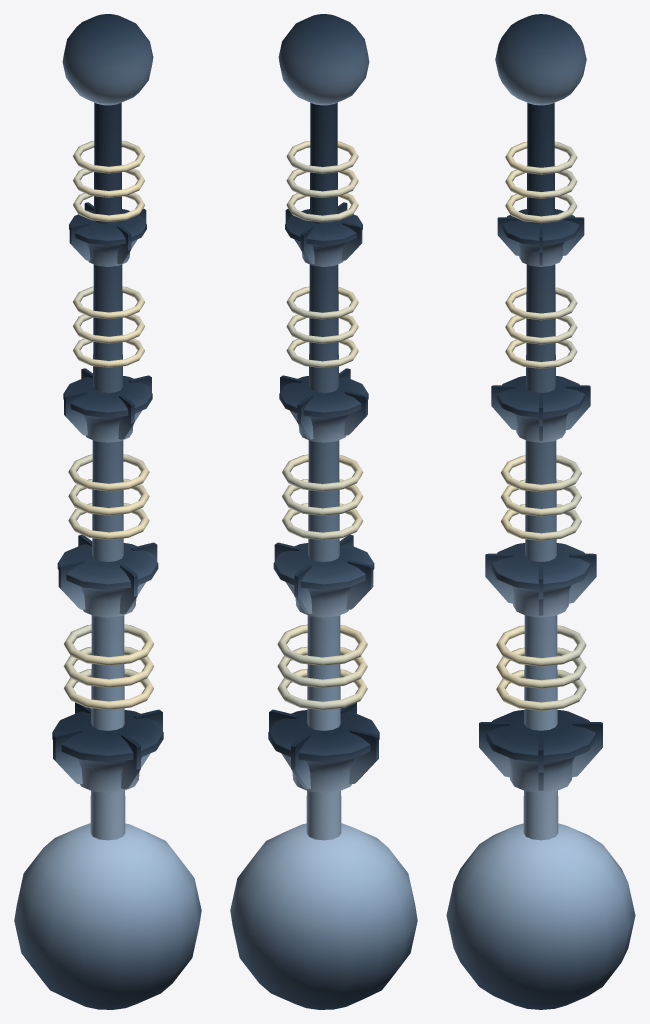
File: ENV_Spire_01.FBX
3 renders of one model, left to right at view 1: azimuth 30°, elevation 25°; view 2: azimuth 150°, elevation 25°; view 3: azimuth 270°, elevation 25°, orthographic.
Parts seen in each view (by area): view 1: ENV_Spire_01; view 2: ENV_Spire_01; view 3: ENV_Spire_01.
Part boxes in pixels (x1,y1,x2,y2): ENV_Spire_01: (14, 14, 201, 1009); ENV_Spire_01: (230, 14, 417, 1009); ENV_Spire_01: (446, 14, 635, 1009).
Size of the model in its own units: 568 by 3258 by 568.
Materials: 2 (2 with a texture image).
